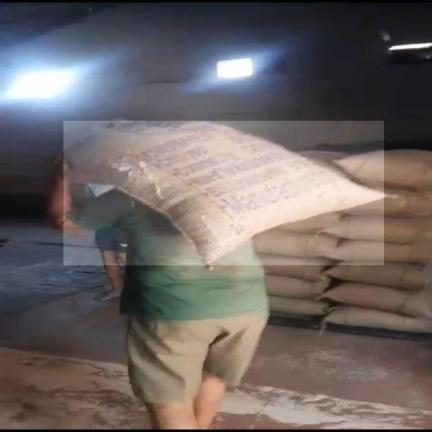Zone-Counting: (49, 121, 381, 429)
